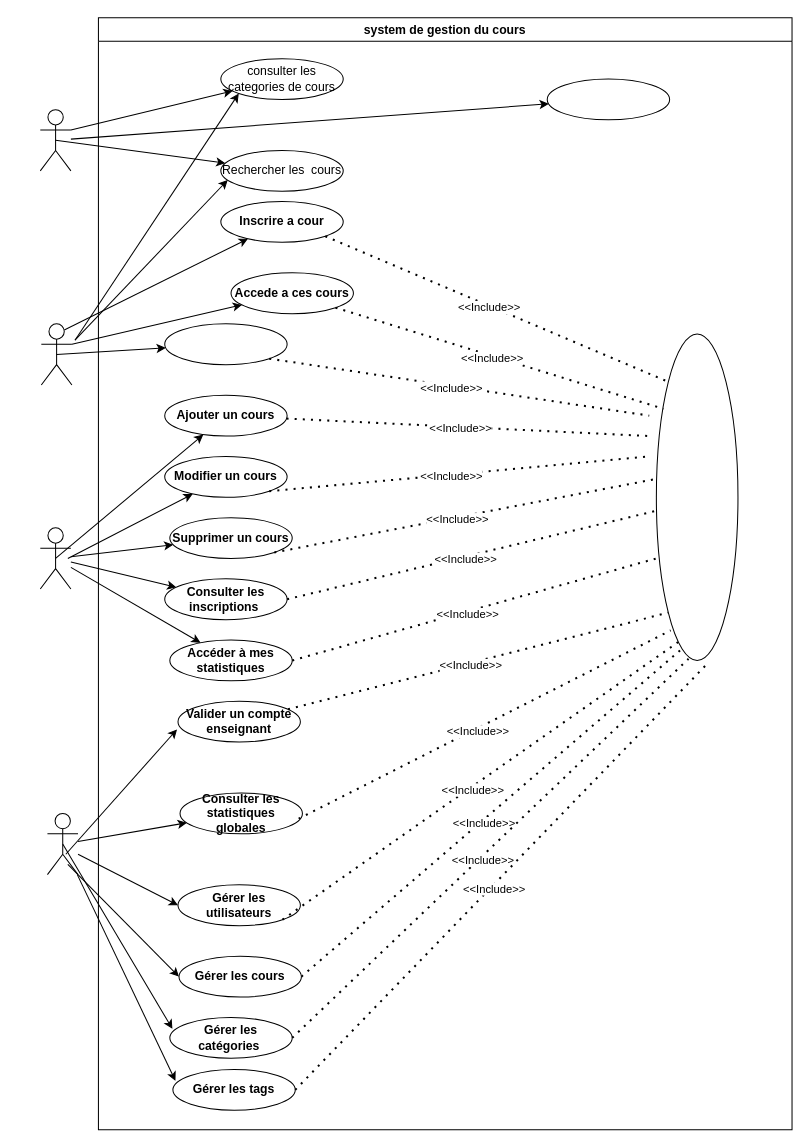
Image size: 810x1148. Some labels were removed from this diagram. The centre of each missing label's shape, as x and y in pixels:
"Admin" goes at [62,843].
"authentication" goes at [696,496].
"Consulter les details du cour" goes at [225,344].
"Creer un compte" goes at [608,99].
"Enseignant" goes at [55,558].
"Etudiant" goes at [56,354].
"Visiteur" goes at [55,140].
